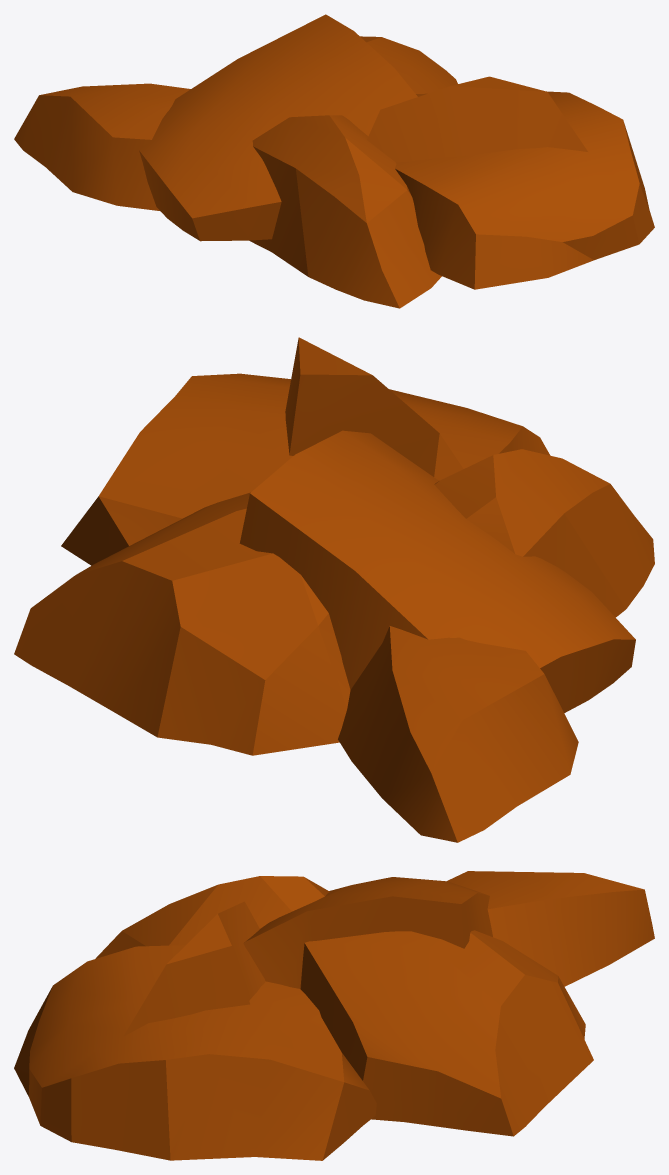
File: RockMount_1.FBX
3 renders of one model, top to bottom at view 1: azimuth 30°, elevation 25°; view 2: azimuth 150°, elevation 25°; view 3: azimuth 270°, elevation 25°, orthographic. The views are drawn at different scales.
Visible parts, largest first — view 1: rocksmount_2; view 2: rocksmount_2; view 3: rocksmount_2.
Part boxes in pixels (box(x1,y1,x2,y2)): rocksmount_2: box(14, 14, 654, 308); rocksmount_2: box(14, 337, 654, 842); rocksmount_2: box(14, 871, 654, 1160).
Bounding box in the file's own units: 6909 × 2190 × 7688.
